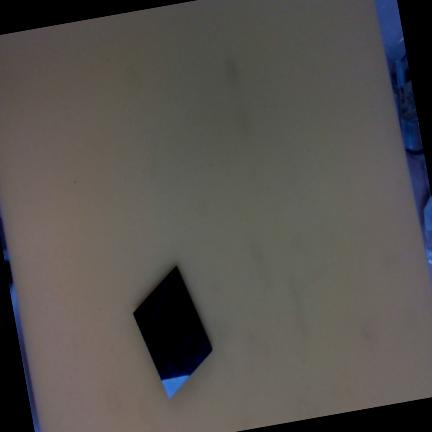tile: (122, 264, 223, 400)
